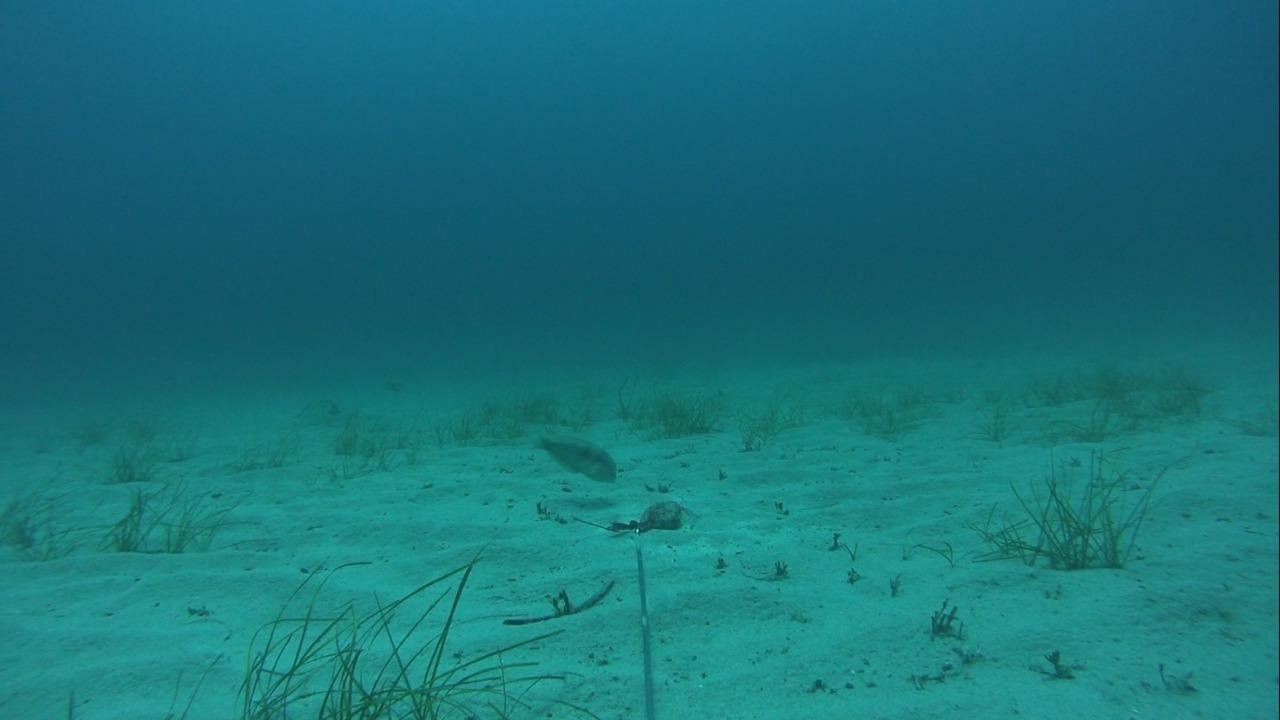raor: (524, 425, 619, 489)
